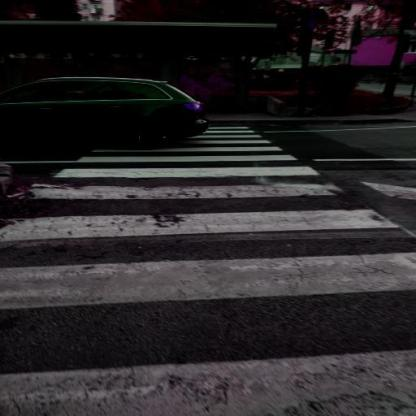crosswalk: (0, 206, 416, 318), (55, 154, 329, 181)
